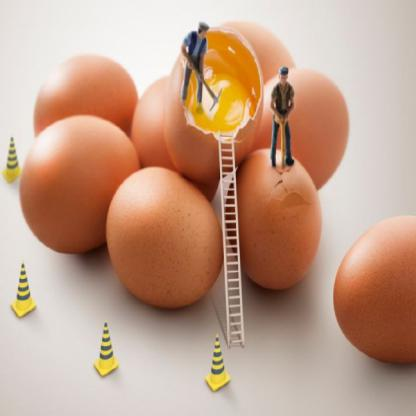egg: (14, 110, 144, 268), (111, 153, 232, 314), (247, 62, 357, 186), (230, 153, 326, 283), (330, 207, 416, 349), (30, 42, 138, 154)
